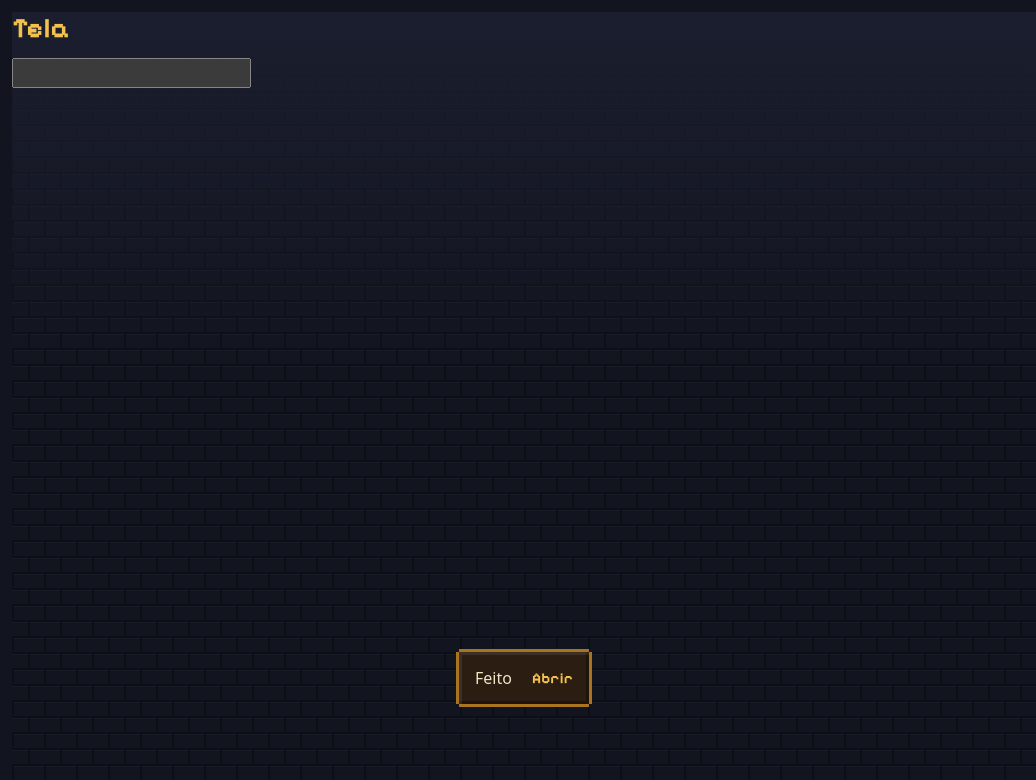
Test case: Toast action focus › an action whose screen moves focus a moment later (a microtask) keeps it there
Click the button "Abrir": x=552, y=678 [520,656,585,700]
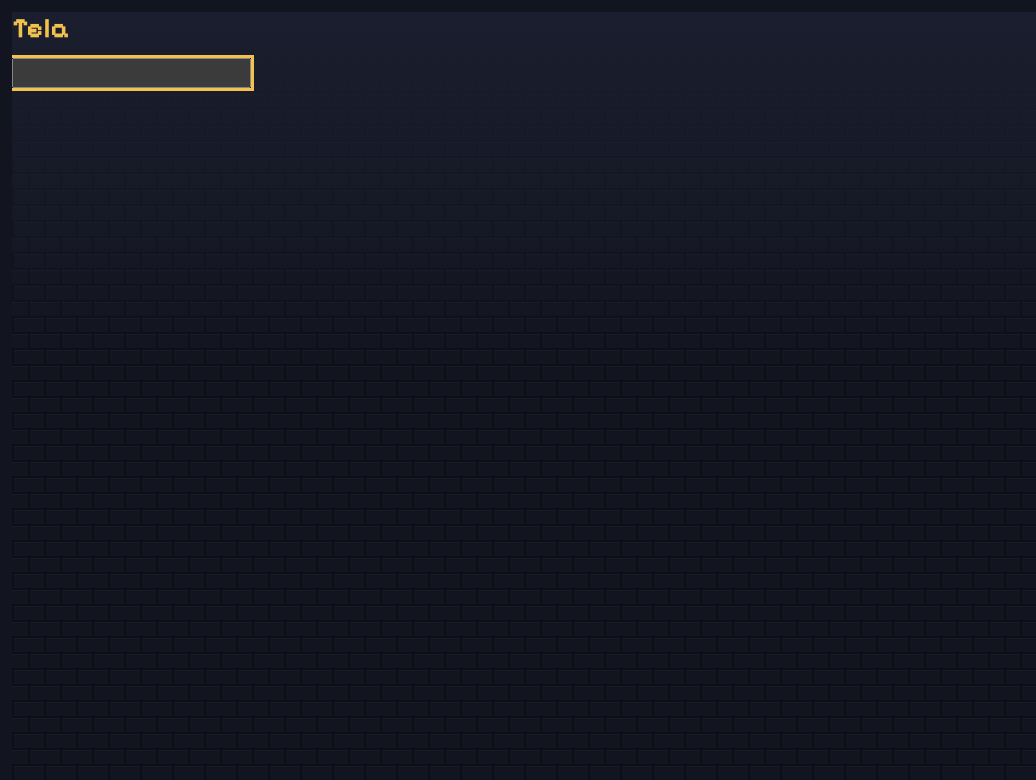
Expected: the button "Abrir" is gone
